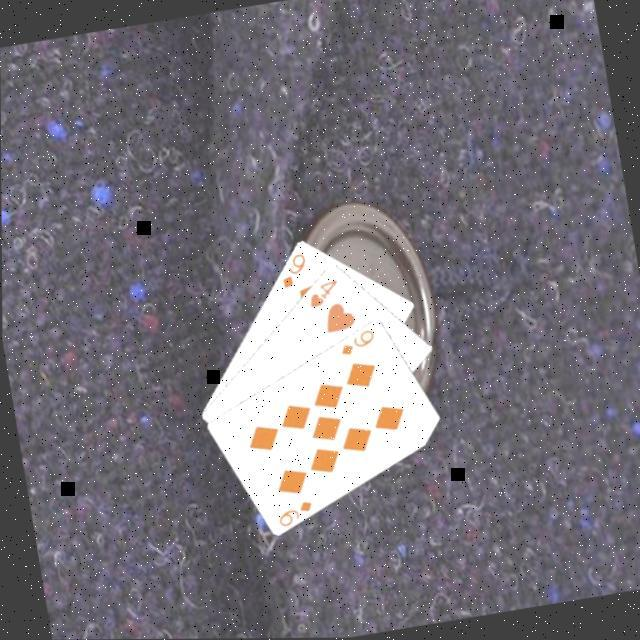4H: (300, 275, 341, 310)
9D: (272, 247, 310, 290), (332, 323, 378, 358), (270, 495, 315, 529)
